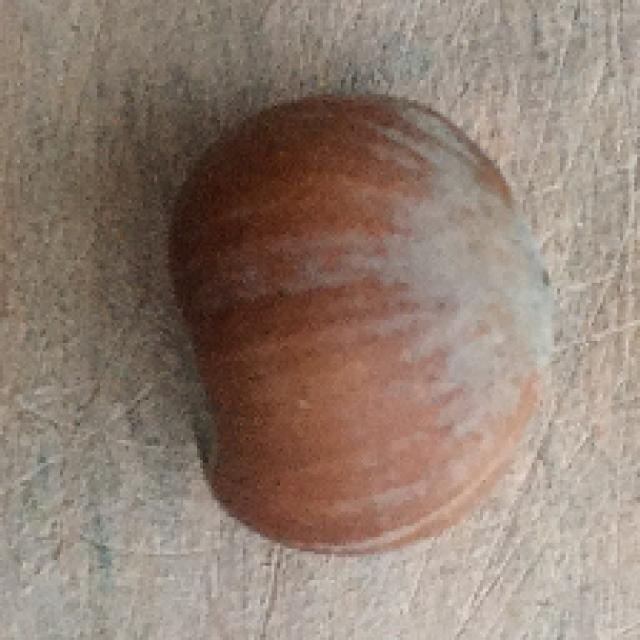DamagedHazelnut: (170, 94, 556, 559)
